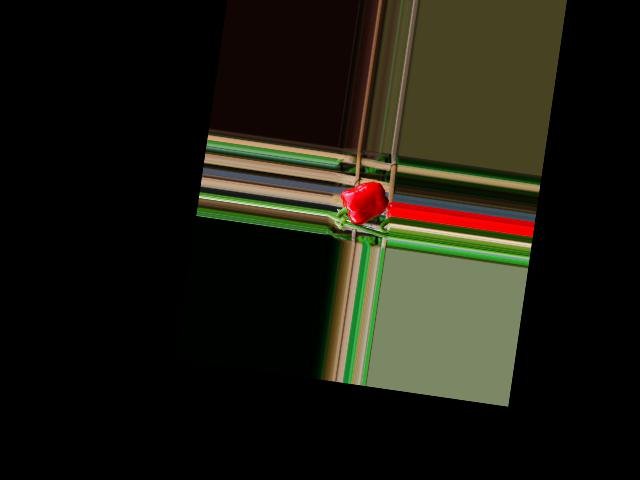bell_pepper: (336, 174, 391, 231)
